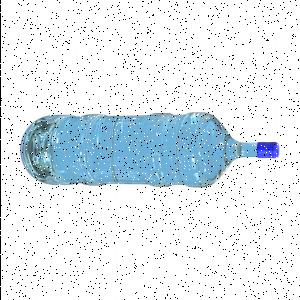Plastic-bottle: (20, 113, 280, 189)
